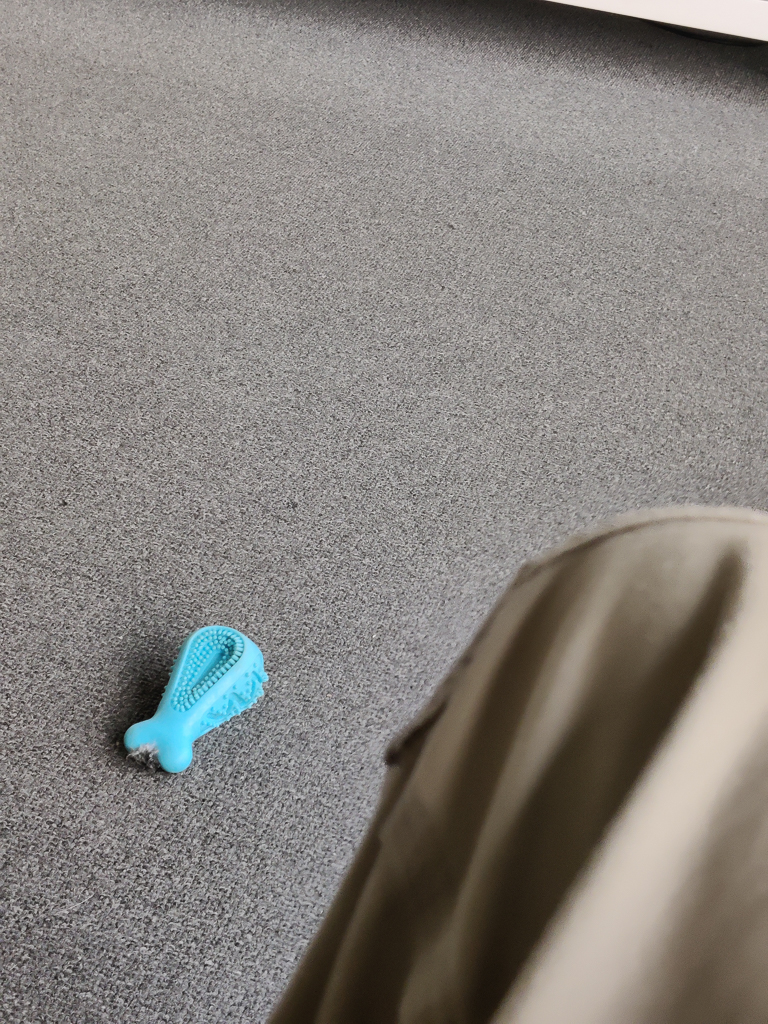Humanoid: (249, 501, 768, 1024)
